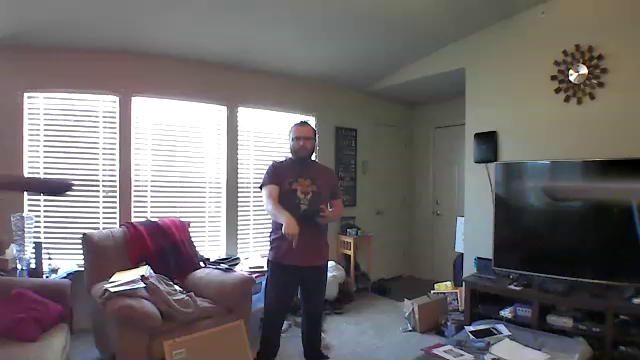down: (276, 211, 303, 256)
